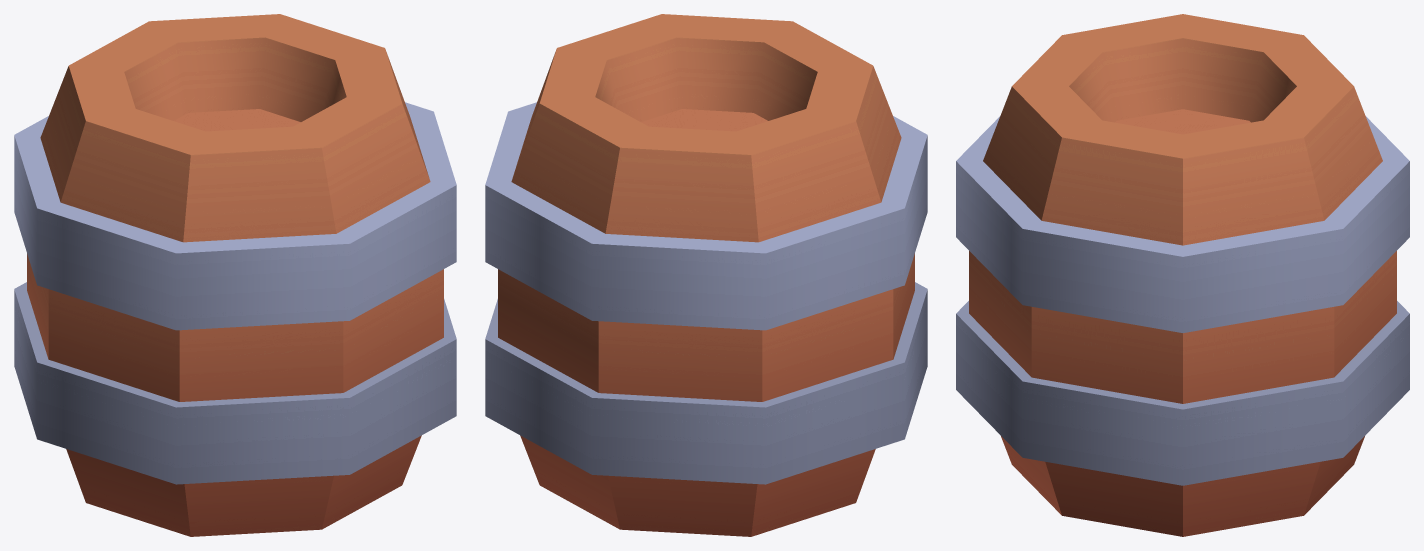
Rendered from barrel_1.glb.
The picture shows the model from 3 angles, left to right: view 1: azimuth 30°, elevation 25°; view 2: azimuth 150°, elevation 25°; view 3: azimuth 270°, elevation 25°; orthographic projection.
Parts seen in each view (by area): view 1: barrel; view 2: barrel; view 3: barrel.
Part boxes in pixels (x1,y1,x2,y2): barrel: [14, 14, 456, 536]; barrel: [485, 14, 927, 536]; barrel: [956, 14, 1409, 536].
Size of the model in its own units: 0.5176 by 0.4762 by 0.5176.
Materials: 1 (1 with a texture image).
